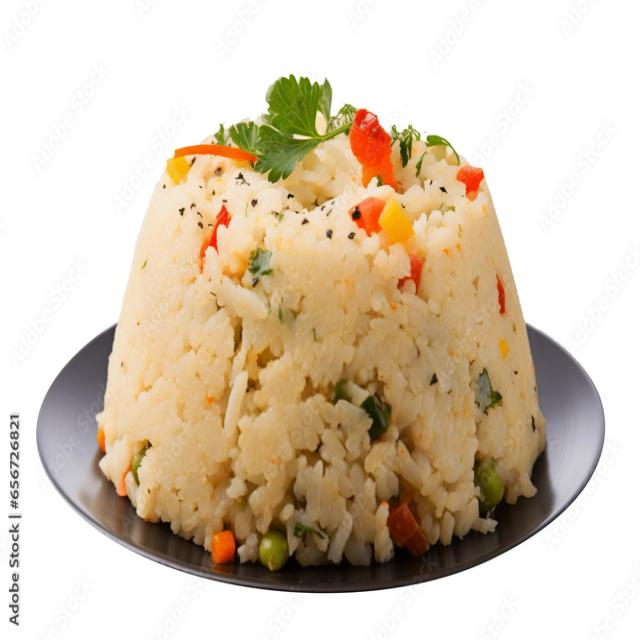UPMA: (99, 114, 545, 560)
